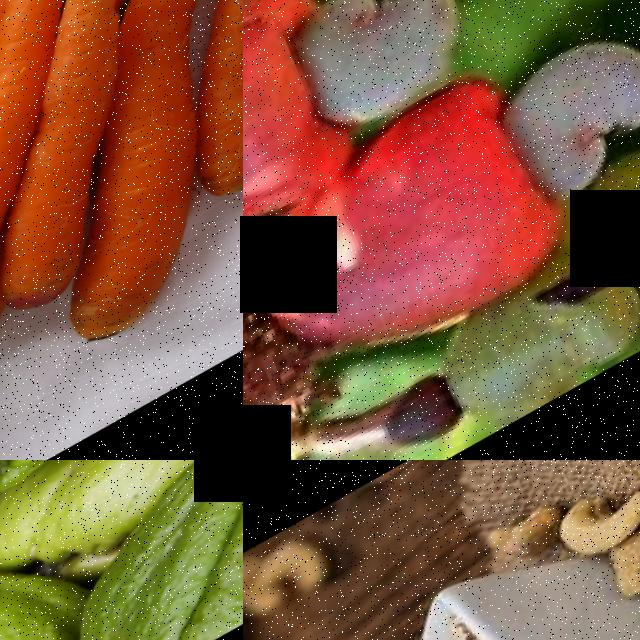carrot: (73, 91, 243, 378), (0, 77, 173, 327), (138, 0, 243, 234)
cashew: (459, 7, 640, 244), (273, 0, 488, 156), (531, 466, 640, 594), (593, 460, 640, 498)
chayote: (58, 460, 243, 640), (0, 524, 131, 640), (0, 460, 83, 577)
